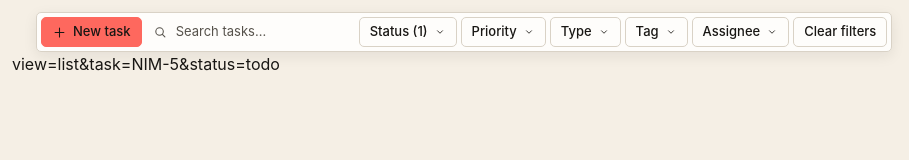
Test: Toolbar › clear filters removes filter params but keeps view and task
This screenshot has width=909, height=160.
Click the button "Clear filters": (840, 32) [793, 17, 887, 47]
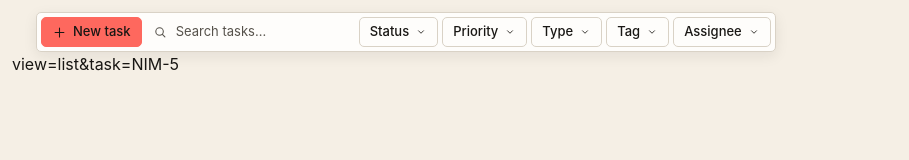
Expected: the text with test id "qs" shows "view=list", [12, 54, 179, 74]
Now the text with test id "qs" no longer shows "status="
